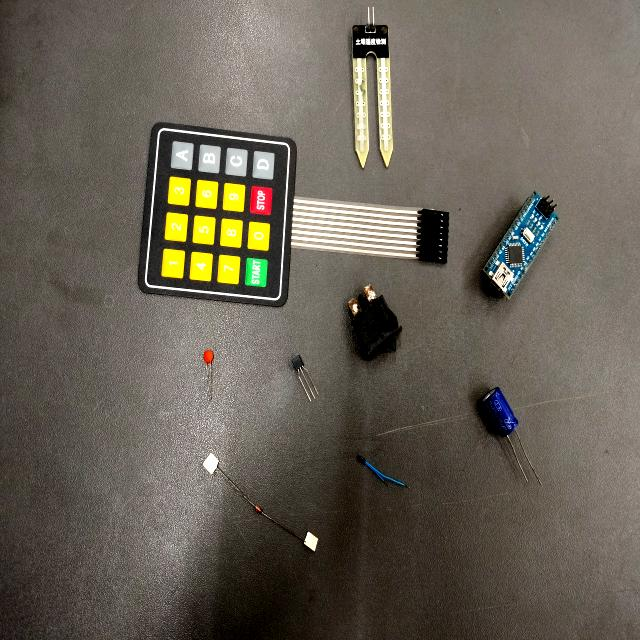capacitor: (470, 388, 518, 446), (203, 350, 214, 366)
